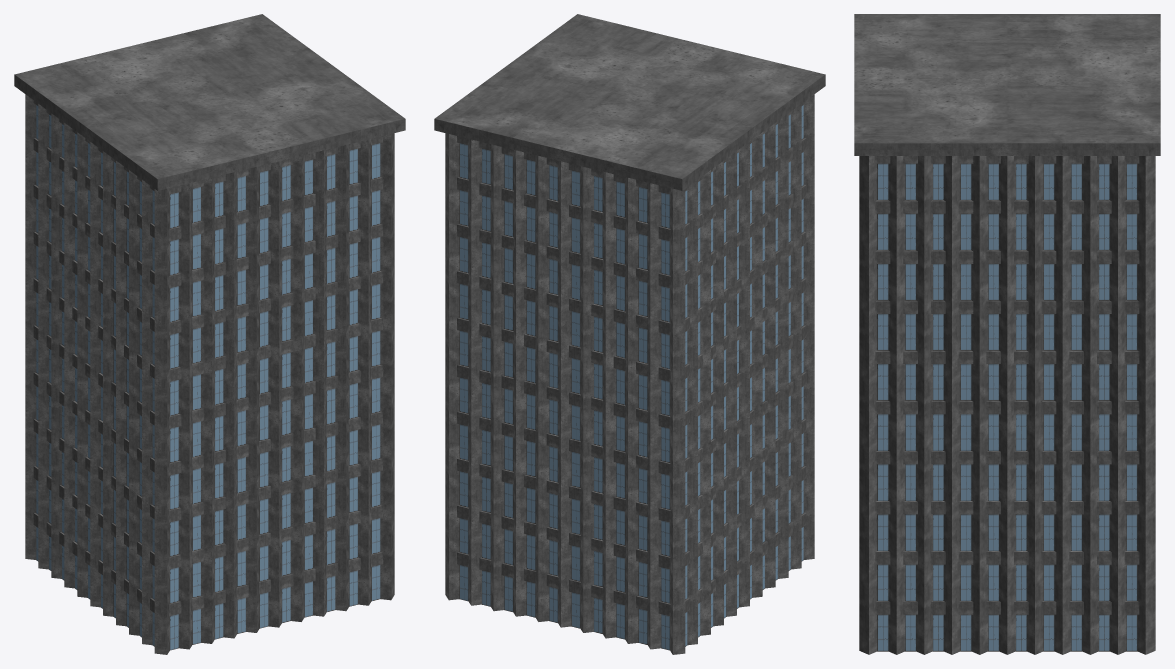
The model's file is ConcreteBuilding.glb.
The picture shows the model from 3 angles, left to right: view 1: azimuth 30°, elevation 25°; view 2: azimuth 150°, elevation 25°; view 3: azimuth 270°, elevation 25°; orthographic projection. The views are drawn at different scales.
Visible parts, largest first — view 1: ConcreteBuilding; view 2: ConcreteBuilding; view 3: ConcreteBuilding.
Boxes of the visible parts, x1,y1,x2,y2 form: ConcreteBuilding: [14, 14, 405, 654]; ConcreteBuilding: [434, 14, 825, 654]; ConcreteBuilding: [854, 14, 1160, 654].
Size of the model in its own units: 22.14 by 41.01 by 22.14.
2 materials, 2 textured.
